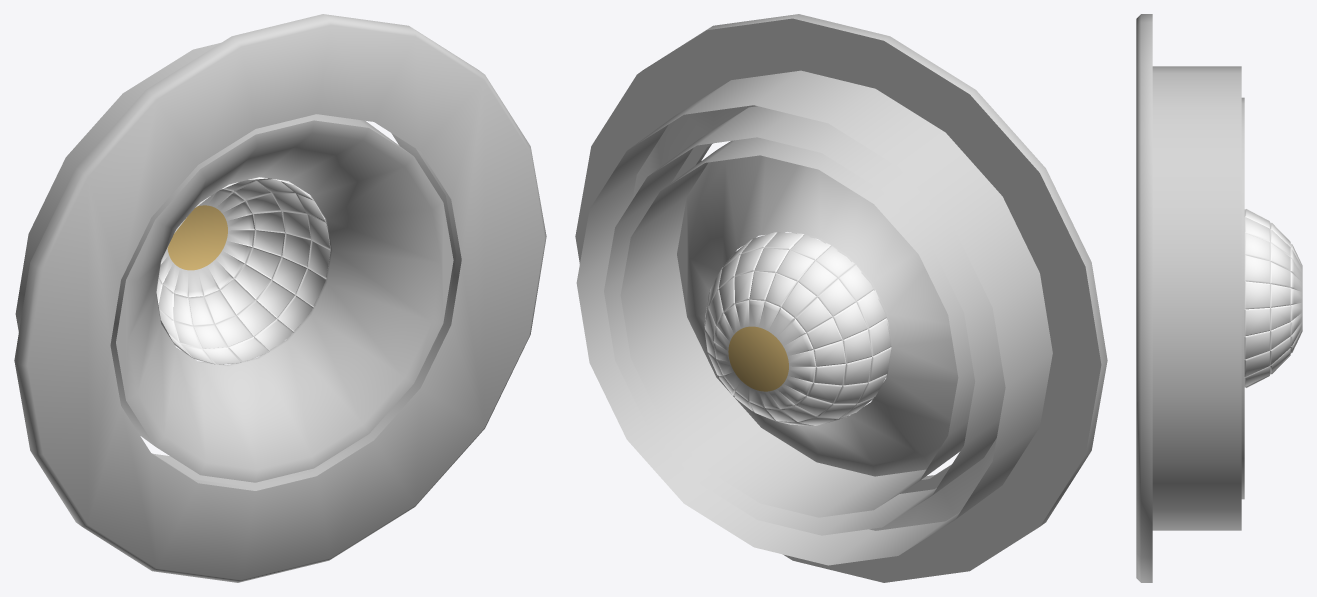
Rendered from Downlight_V1.glb.
The picture shows the model from 3 angles, left to right: view 1: azimuth 30°, elevation 25°; view 2: azimuth 150°, elevation 25°; view 3: azimuth 270°, elevation 25°; orthographic projection. The views are drawn at different scales.
Visible parts, largest first — view 1: 3DGeom-1, 3DGeom-4, 3DGeom-2, 3DGeom-3; view 2: 3DGeom-1, 3DGeom-4, 3DGeom-2, 3DGeom-3; view 3: 3DGeom-1, 3DGeom-2.
Part boxes in pixels (x1=…): 3DGeom-1: x1=14, y1=14, x2=546, y2=582; 3DGeom-4: x1=110, y1=114, x2=453, y2=482; 3DGeom-2: x1=156, y1=177, x2=330, y2=364; 3DGeom-3: x1=167, y1=205, x2=227, y2=270; 3DGeom-1: x1=575, y1=14, x2=1107, y2=582; 3DGeom-4: x1=620, y1=137, x2=975, y2=517; 3DGeom-2: x1=704, y1=232, x2=891, y2=426; 3DGeom-3: x1=728, y1=326, x2=788, y2=391; 3DGeom-1: x1=1136, y1=14, x2=1244, y2=582; 3DGeom-2: x1=1244, y1=209, x2=1302, y2=387.
Size of the model in its own units: 0.0664 by 0.0654 by 0.0193.
3 materials, 1 textured.
